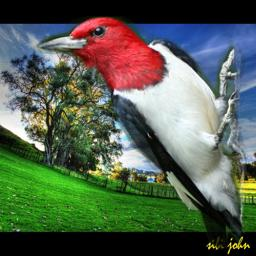Woodpecker: (32, 16, 254, 250)
